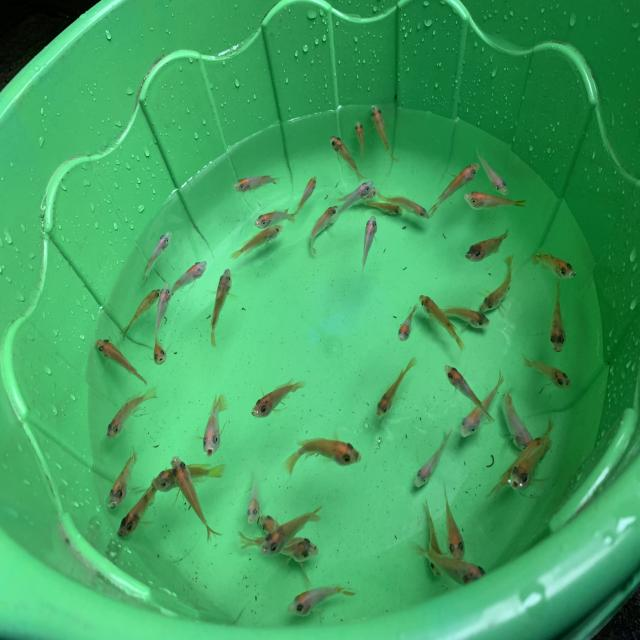nila: (486, 434, 550, 503), (170, 451, 216, 544), (114, 466, 170, 540), (508, 413, 558, 495), (257, 502, 325, 560), (258, 510, 312, 580), (422, 158, 482, 218), (457, 369, 507, 440), (442, 361, 496, 426), (90, 336, 150, 394), (105, 382, 163, 442), (412, 541, 490, 584), (284, 578, 362, 621), (283, 432, 365, 472), (374, 355, 423, 421), (410, 426, 456, 492), (237, 530, 322, 564), (418, 292, 465, 350), (477, 250, 517, 316), (150, 462, 231, 494), (104, 443, 140, 514), (118, 284, 161, 343), (247, 380, 310, 420), (440, 478, 469, 564), (504, 388, 538, 458), (205, 264, 232, 349), (166, 256, 210, 308), (229, 223, 283, 263), (136, 230, 172, 286), (201, 388, 228, 462), (368, 104, 400, 164), (333, 178, 376, 222), (520, 352, 572, 388), (463, 225, 510, 264), (373, 189, 432, 220), (526, 248, 579, 282), (325, 134, 364, 180), (474, 145, 509, 195), (288, 170, 322, 221), (307, 204, 339, 258), (424, 498, 442, 583), (546, 279, 566, 355), (461, 188, 528, 209), (227, 170, 283, 195), (436, 304, 493, 328), (361, 214, 381, 276), (395, 301, 422, 344), (358, 194, 404, 219), (154, 282, 173, 340), (330, 186, 382, 207), (251, 210, 297, 233), (245, 467, 262, 528), (151, 329, 172, 373), (351, 121, 369, 161)
